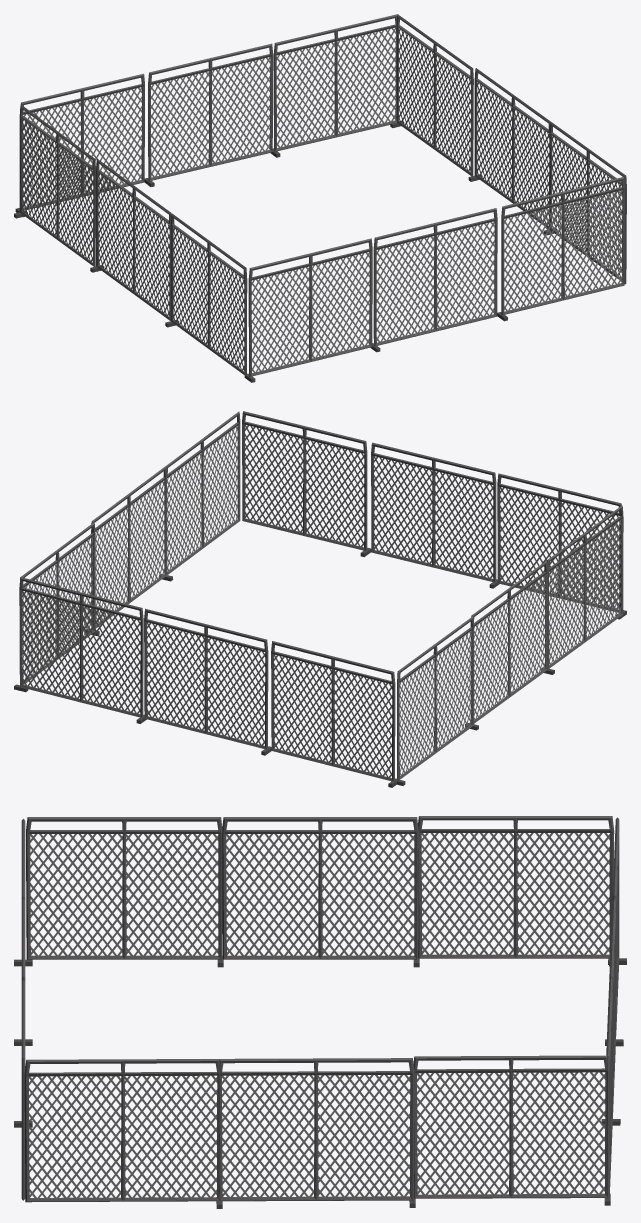
File: Fence_Chainlink.glb
3 views of the same model, one above another, from view 1: azimuth 30°, elevation 25°; view 2: azimuth 150°, elevation 25°; view 3: azimuth 270°, elevation 25° (orthographic). The views are drawn at different scales.
Visible parts, largest first — view 1: Fence_Wire_01.005, Fence_Wire_01.009, Fence_Wire_01.004, Fence_Wire_01.010, Fence_Wire_01.001, Fence_Wire_01.006, Fence_Wire_01.003, Gate, Fence_Wire_01.008, Fence_Wire_01.002, Fence_Wire_01, Fence_Wire_01.007; view 2: Fence_Wire_01.005, Fence_Wire_01.010, Fence_Wire_01.001, Fence_Wire_01.004, Fence_Wire_01.006, Fence_Wire_01.009, Fence_Wire_01.008, Fence_Wire_01.003, Fence_Wire_01.007, Fence_Wire_01.002, Fence_Wire_01, Gate; view 3: Fence_Wire_01.002, Fence_Wire_01.008, Fence_Wire_01, Fence_Wire_01.007, Gate, Fence_Wire_01.003, Fence_Wire_01.001, Fence_Wire_01.010, Fence_Wire_01.006, Fence_Wire_01.004.
Part boxes in pixels (bbox=[...]): Fence_Wire_01.005: bbox=[370, 208, 497, 352]; Fence_Wire_01.009: bbox=[244, 238, 372, 382]; Fence_Wire_01.004: bbox=[144, 43, 273, 186]; Fence_Wire_01.010: bbox=[497, 177, 625, 321]; Fence_Wire_01.001: bbox=[270, 14, 397, 157]; Fence_Wire_01.006: bbox=[15, 73, 144, 217]; Fence_Wire_01.003: bbox=[14, 104, 95, 267]; Gate: bbox=[390, 14, 473, 176]; Fence_Wire_01.008: bbox=[165, 213, 247, 376]; Fence_Wire_01.002: bbox=[90, 158, 171, 320]; Fence_Wire_01: bbox=[468, 68, 550, 228]; Fence_Wire_01.007: bbox=[543, 122, 626, 284]; Fence_Wire_01.005: bbox=[371, 442, 499, 588]; Fence_Wire_01.010: bbox=[242, 411, 371, 557]; Fence_Wire_01.001: bbox=[19, 577, 146, 723]; Fence_Wire_01.004: bbox=[144, 608, 271, 755]; Fence_Wire_01.006: bbox=[271, 641, 396, 787]; Fence_Wire_01.009: bbox=[497, 473, 626, 619]; Fence_Wire_01.008: bbox=[540, 505, 623, 674]; Fence_Wire_01.003: bbox=[395, 616, 474, 785]; Fence_Wire_01.007: bbox=[159, 411, 240, 581]; Fence_Wire_01.002: bbox=[465, 561, 547, 730]; Fence_Wire_01: bbox=[86, 466, 166, 636]; Gate: bbox=[14, 522, 95, 692]; Fence_Wire_01.002: bbox=[222, 817, 419, 967]; Fence_Wire_01.008: bbox=[26, 817, 223, 967]; Fence_Wire_01: bbox=[218, 1058, 415, 1207]; Fence_Wire_01.007: bbox=[24, 1059, 222, 1208]; Gate: bbox=[413, 1055, 610, 1205]; Fence_Wire_01.003: bbox=[418, 816, 614, 966]; Fence_Wire_01.001: bbox=[601, 978, 620, 1197]; Fence_Wire_01.010: bbox=[14, 980, 32, 1200]; Fence_Wire_01.006: bbox=[608, 817, 626, 1035]; Fence_Wire_01.004: bbox=[605, 898, 623, 1112].
Size of the model in its own units: 7.45 by 2.04 by 7.71.
Materials: 2 (2 with a texture image).
